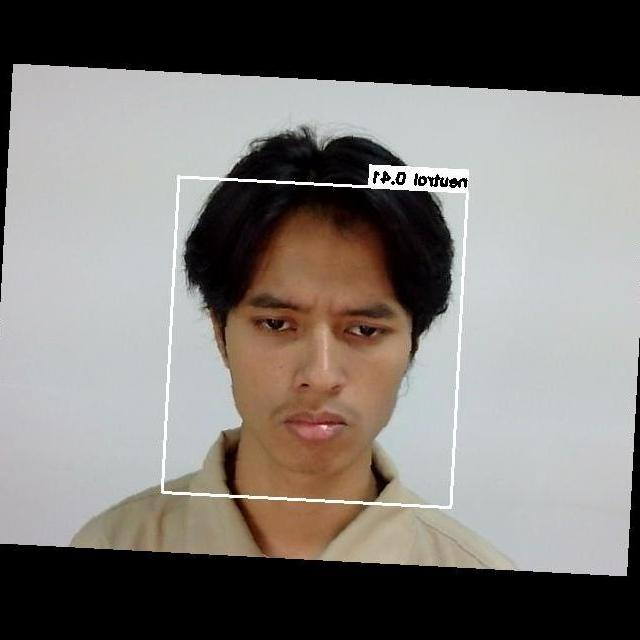Sad: (215, 267, 416, 451)
